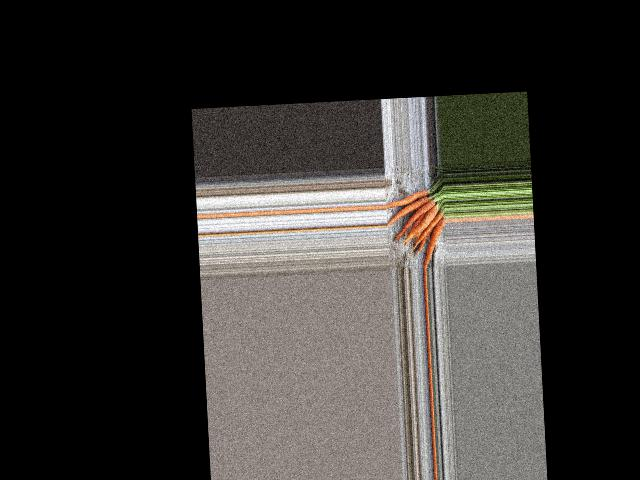carrot: (419, 214, 447, 267)
